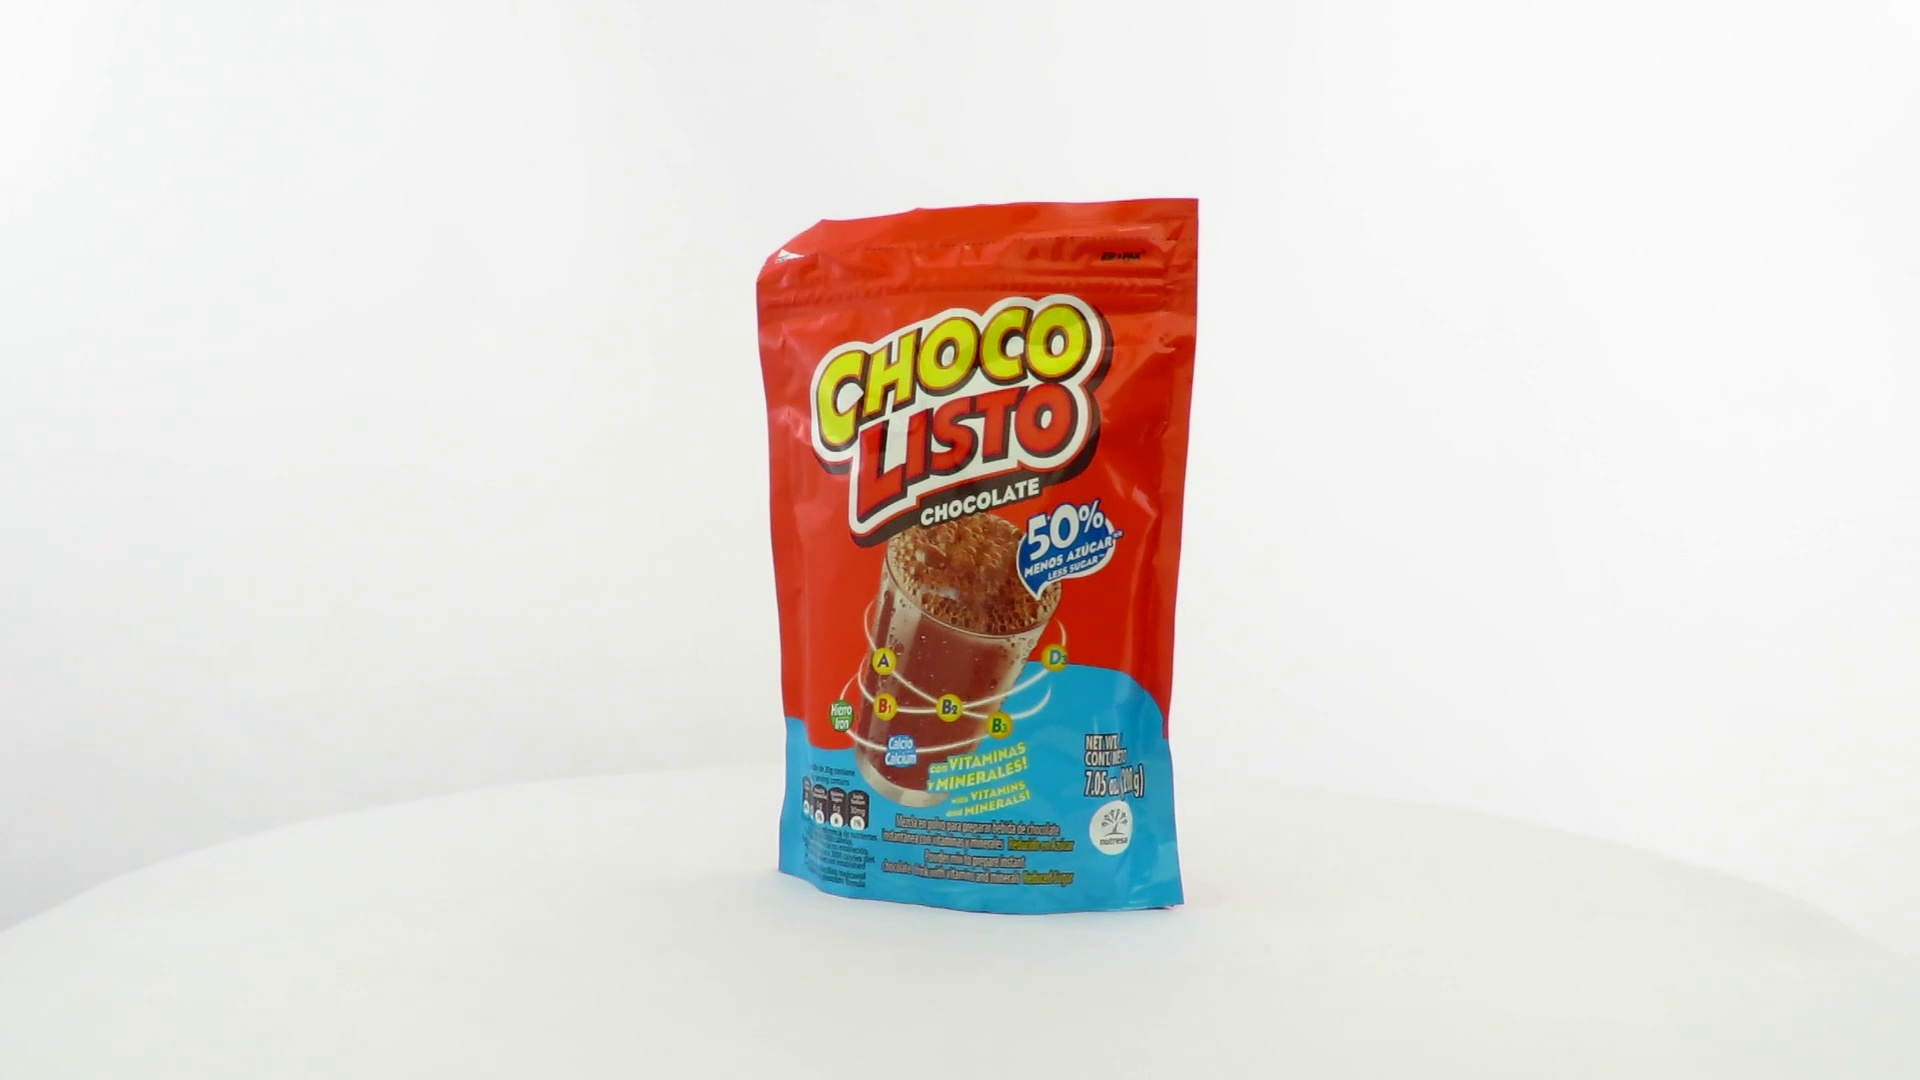COL0170104DYP20000: (752, 193, 1205, 922)
